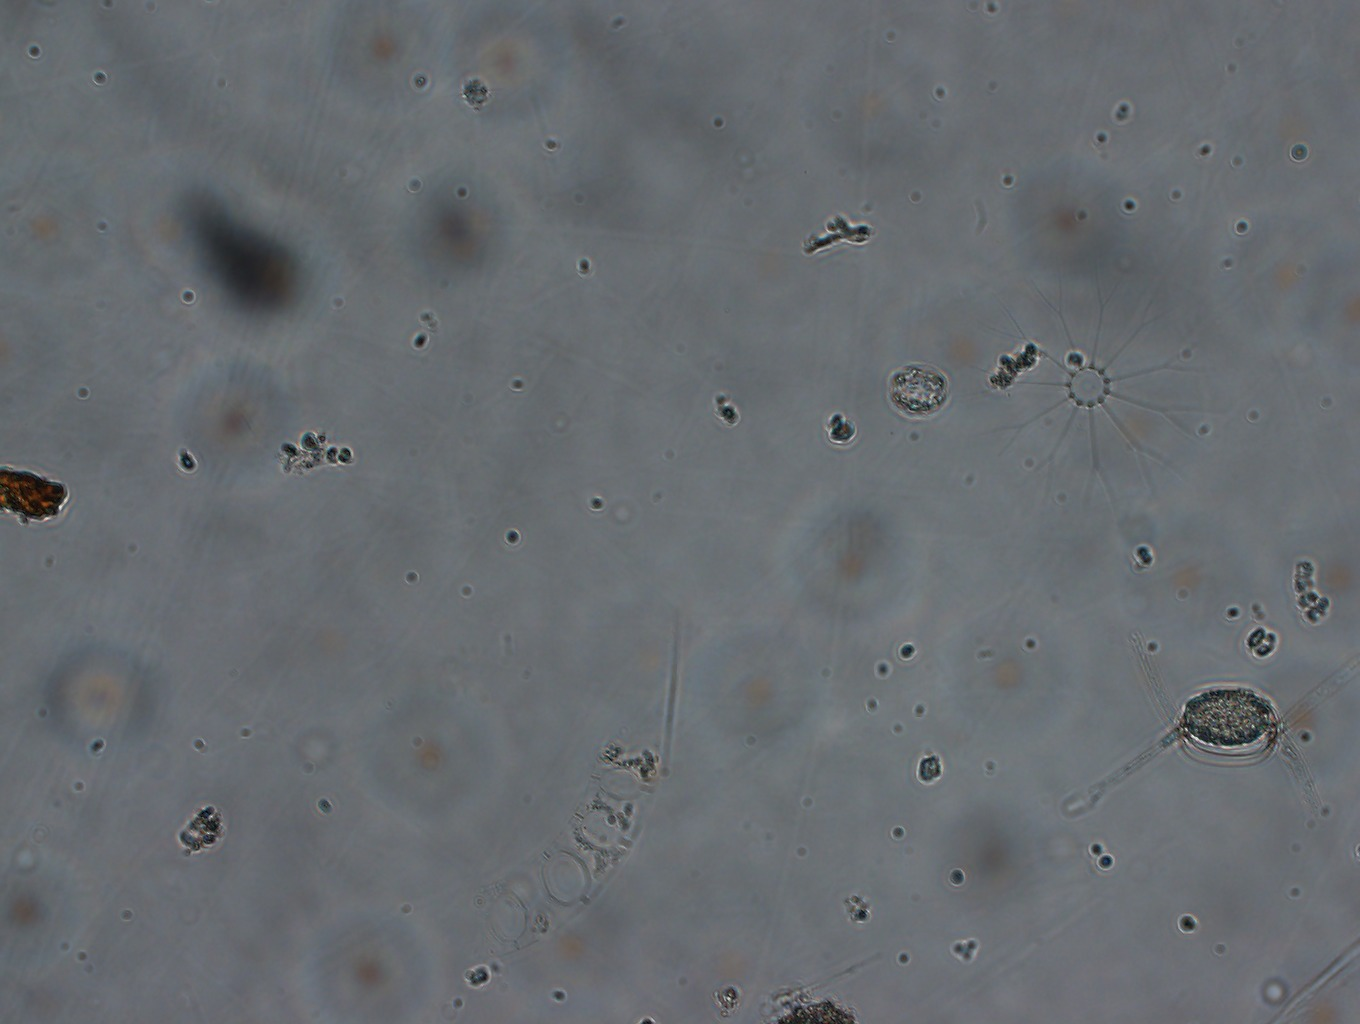bacteriastrum: (963, 251, 1233, 540)
chaetoceros: (1055, 605, 1360, 839)
eucampia: (464, 722, 668, 959)
